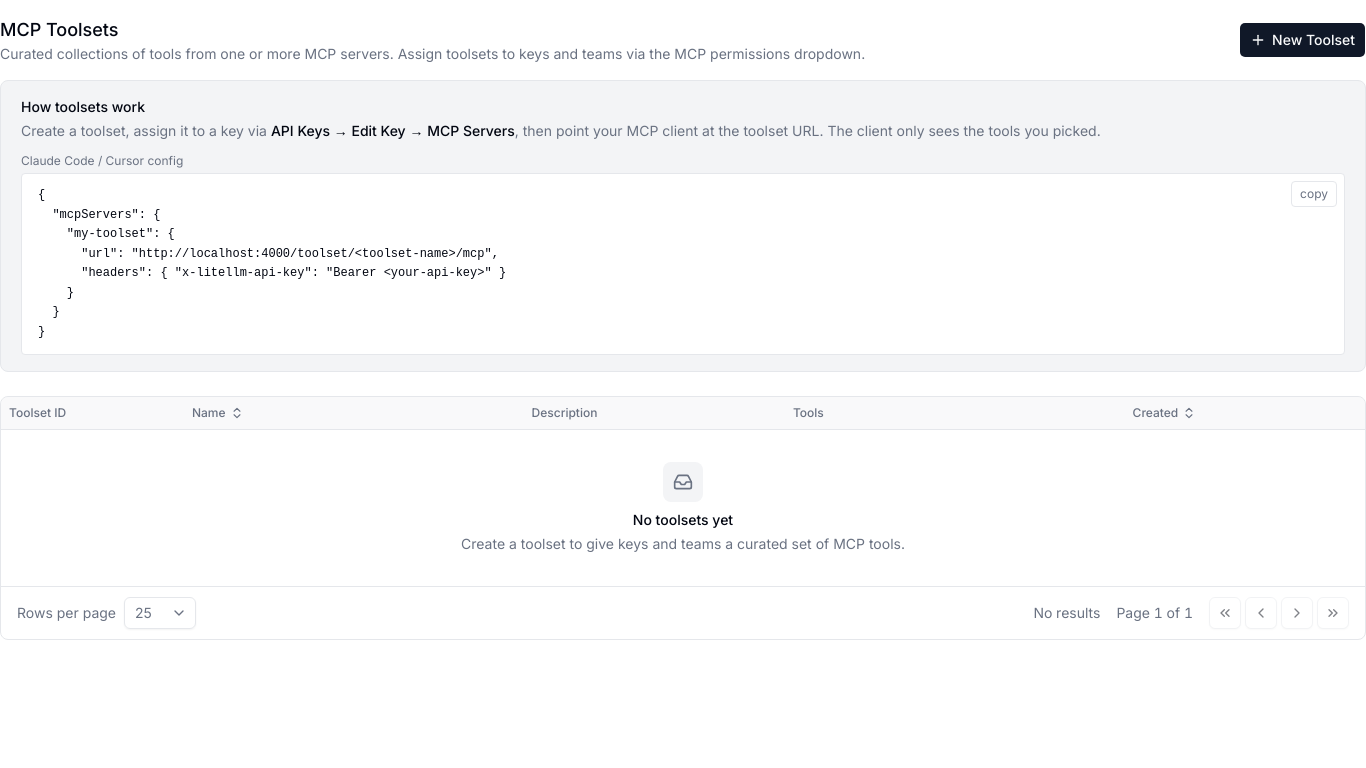
Test: MCPToolsetsTab create/edit toolset form › blocks the submit and shows the required message when the name is empty
Click the button "New Toolset" at (1303, 40), box [1239, 22, 1365, 58]
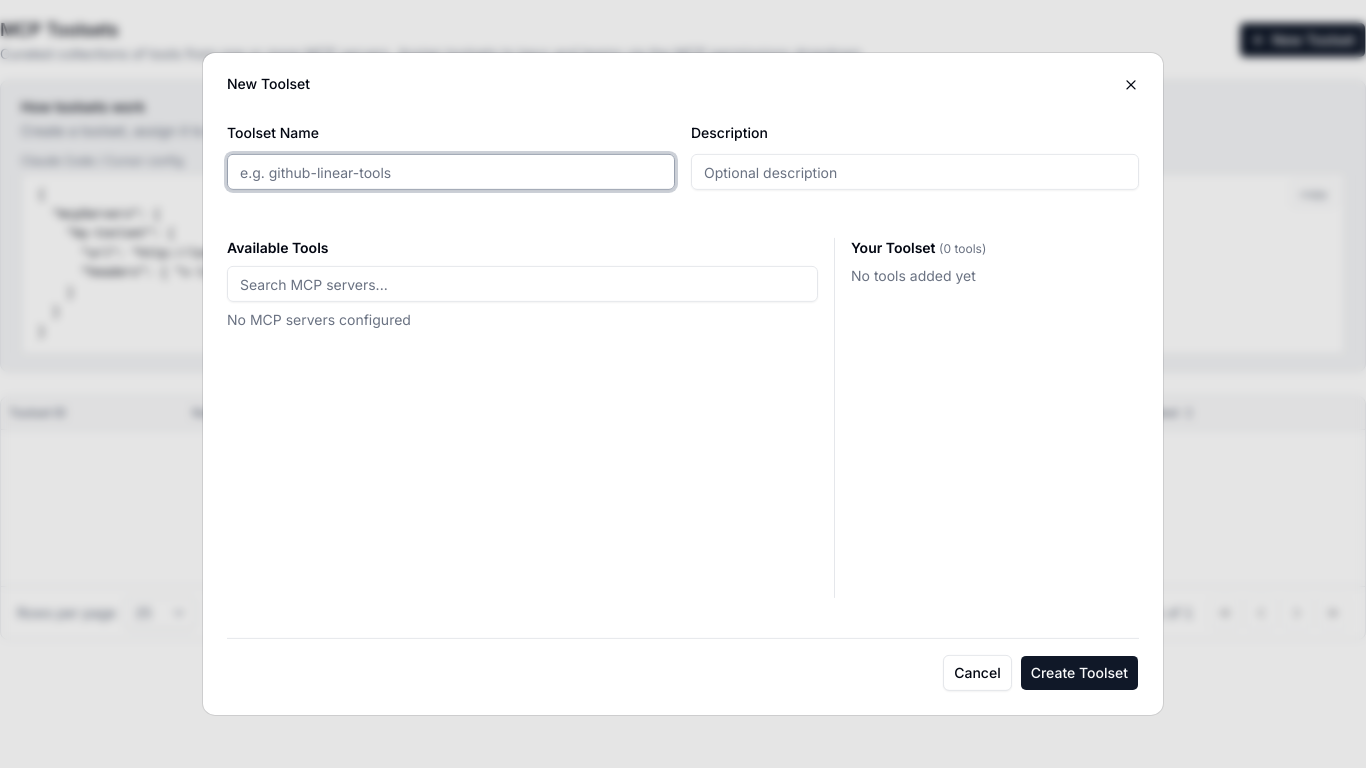
Click the button "Create Toolset" at (1079, 673), box [1020, 655, 1139, 691]
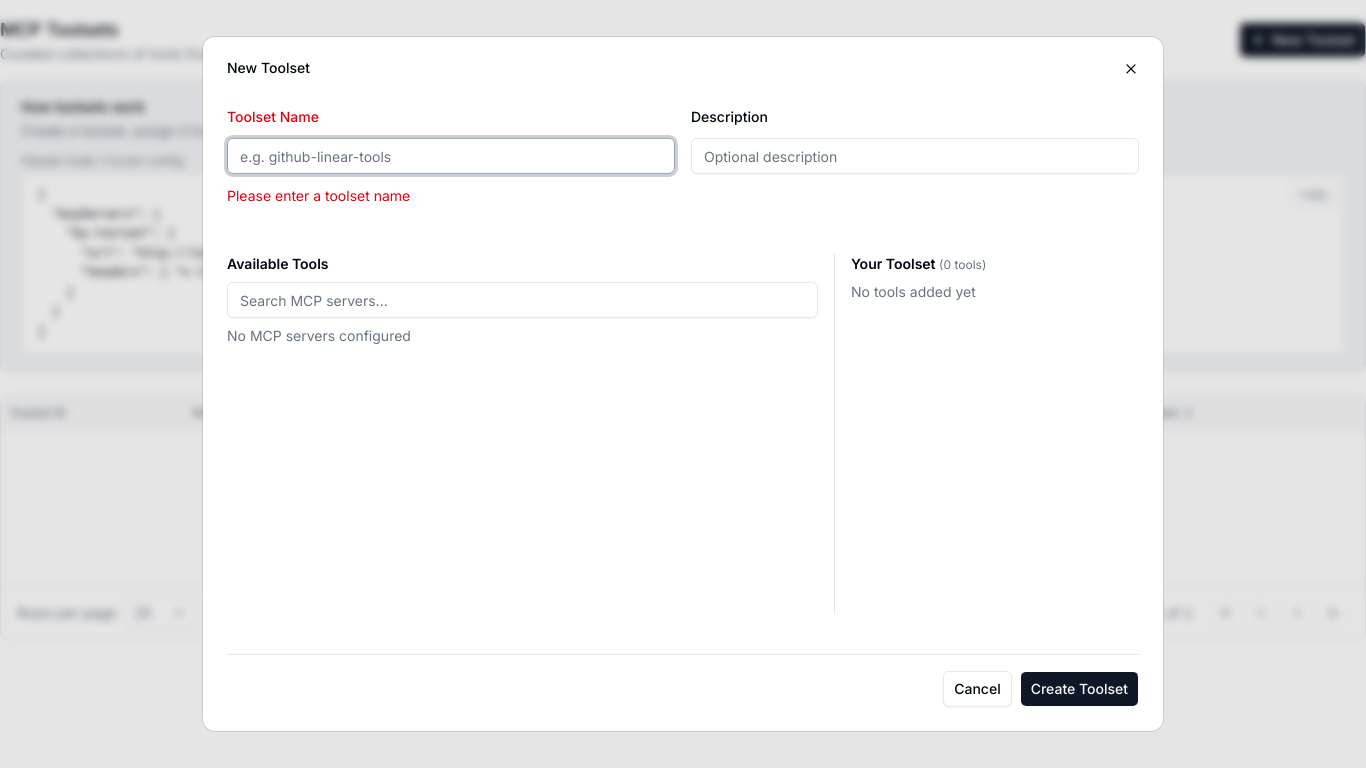
Expected: the text "Please enter a toolset name" is shown, [227, 187, 410, 204]
